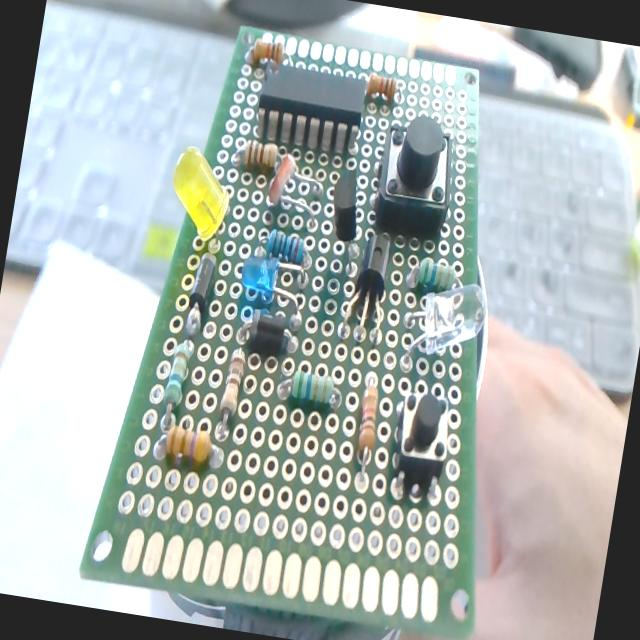IC: (252, 59, 372, 157)
cds: (262, 154, 328, 217)
diode: (240, 315, 300, 359), (184, 250, 218, 326)
led: (398, 274, 491, 374), (164, 142, 237, 245), (240, 252, 312, 314)
resistor: (158, 339, 194, 432), (350, 379, 384, 476), (216, 348, 248, 428), (164, 422, 212, 465), (290, 370, 338, 412), (410, 256, 457, 294), (266, 229, 308, 265), (242, 139, 279, 171), (250, 37, 286, 69), (365, 72, 398, 104)
switch: (366, 113, 462, 245), (385, 384, 457, 501)
transistor: (337, 227, 398, 343), (322, 170, 366, 260)
